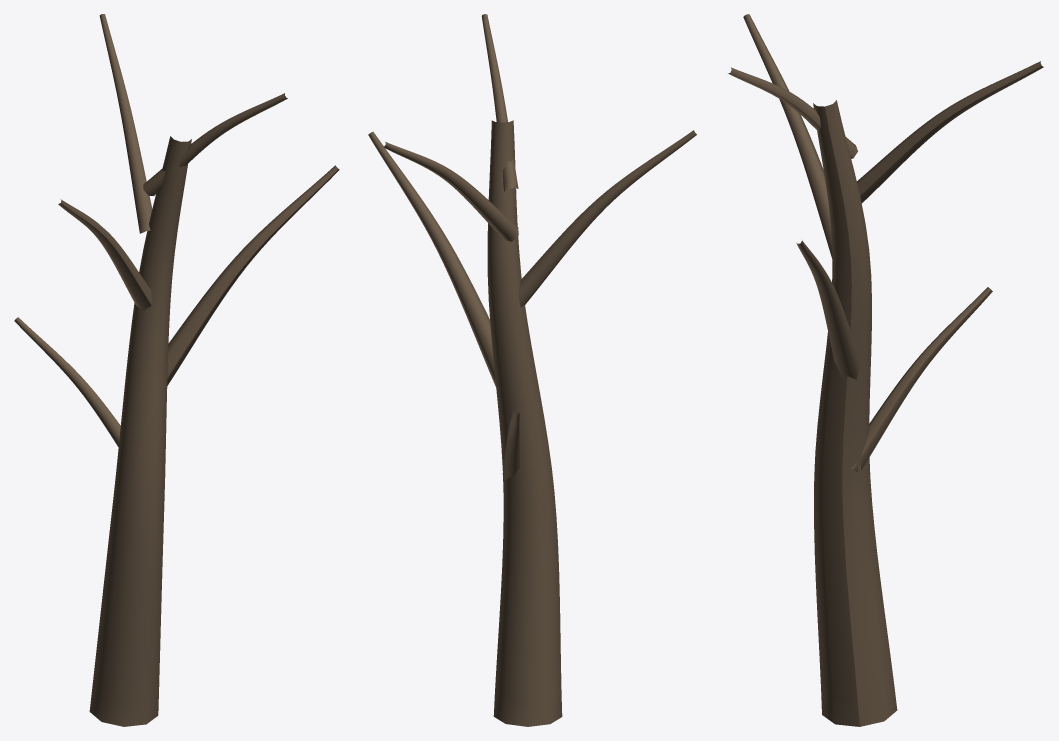
File: dead_tree.glb
3 views of the same model, side by side, from view 1: azimuth 30°, elevation 25°; view 2: azimuth 150°, elevation 25°; view 3: azimuth 270°, elevation 25° (orthographic). The views are drawn at different scales.
Visible parts, largest first — view 1: Dead tree; view 2: Dead tree; view 3: Dead tree.
Part boxes in pixels (left/top/right/bottom): Dead tree: left=14, top=14, right=339, bottom=726; Dead tree: left=368, top=14, right=696, bottom=726; Dead tree: left=728, top=14, right=1043, bottom=726.
Bounding box in the file's own units: 2.23 × 4.43 × 1.83.
